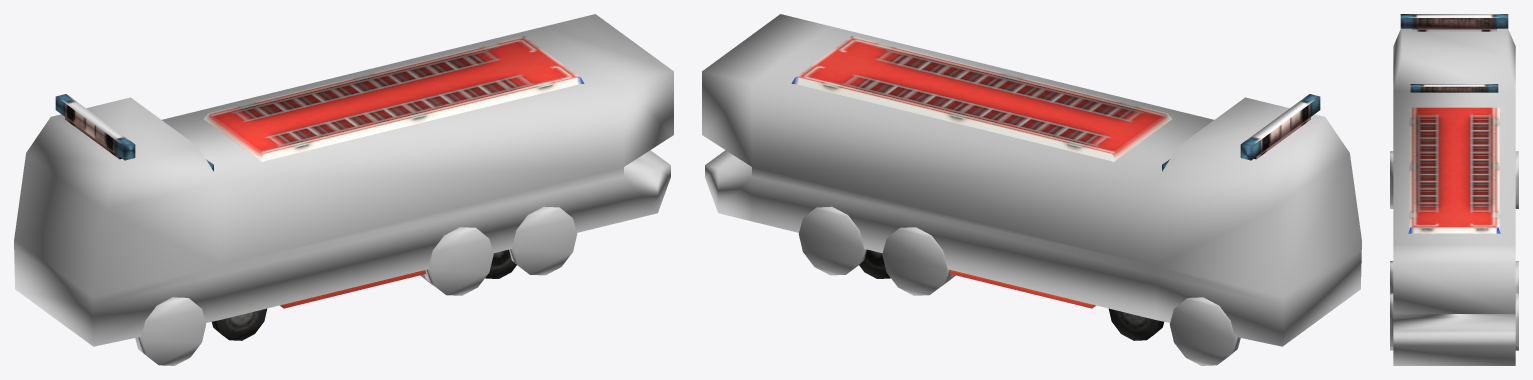
File: miniaturfahrzeuge.fbx
3 views of the same model, side by side, from view 1: azimuth 30°, elevation 25°; view 2: azimuth 150°, elevation 25°; view 3: azimuth 270°, elevation 25° (orthographic). The views are drawn at different scales.
Parts seen in each view (by area): view 1: Mesh, Mesh_ncl1_1; view 2: Mesh, Mesh_ncl1_1; view 3: Mesh, Mesh_ncl1_1.
Part boxes in pixels (left/top/right/bottom): Mesh: left=14, top=14, right=673, bottom=365; Mesh_ncl1_1: left=203, top=36, right=584, bottom=340; Mesh: left=702, top=14, right=1361, bottom=365; Mesh_ncl1_1: left=791, top=36, right=1172, bottom=340; Mesh: left=1390, top=14, right=1518, bottom=365; Mesh_ncl1_1: left=1408, top=84, right=1500, bottom=233.
Size of the model in its own units: 957 by 353 by 235.
